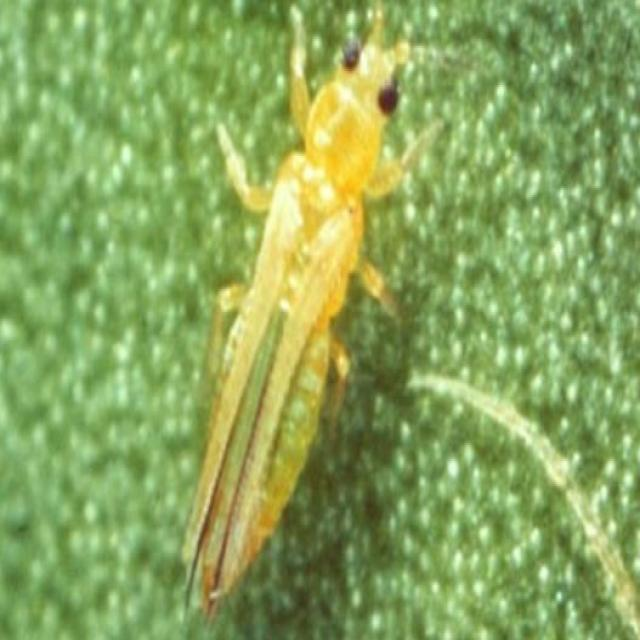Thrip-Adult-: (156, 7, 432, 618)
